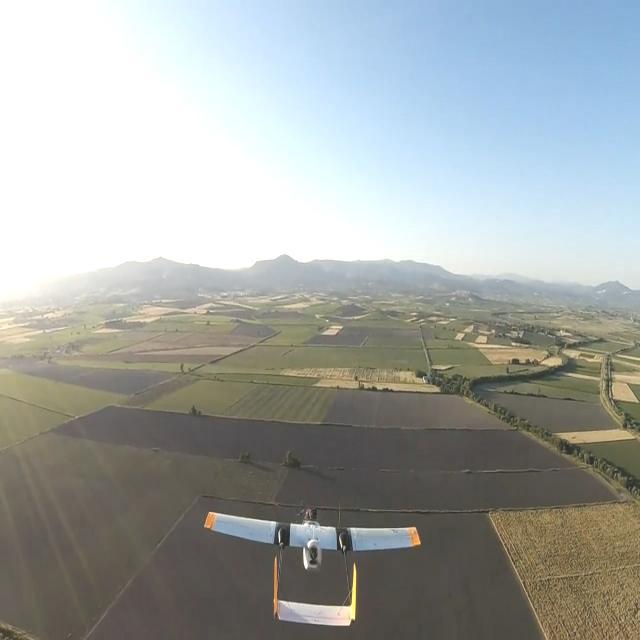iha: (196, 502, 424, 631)
